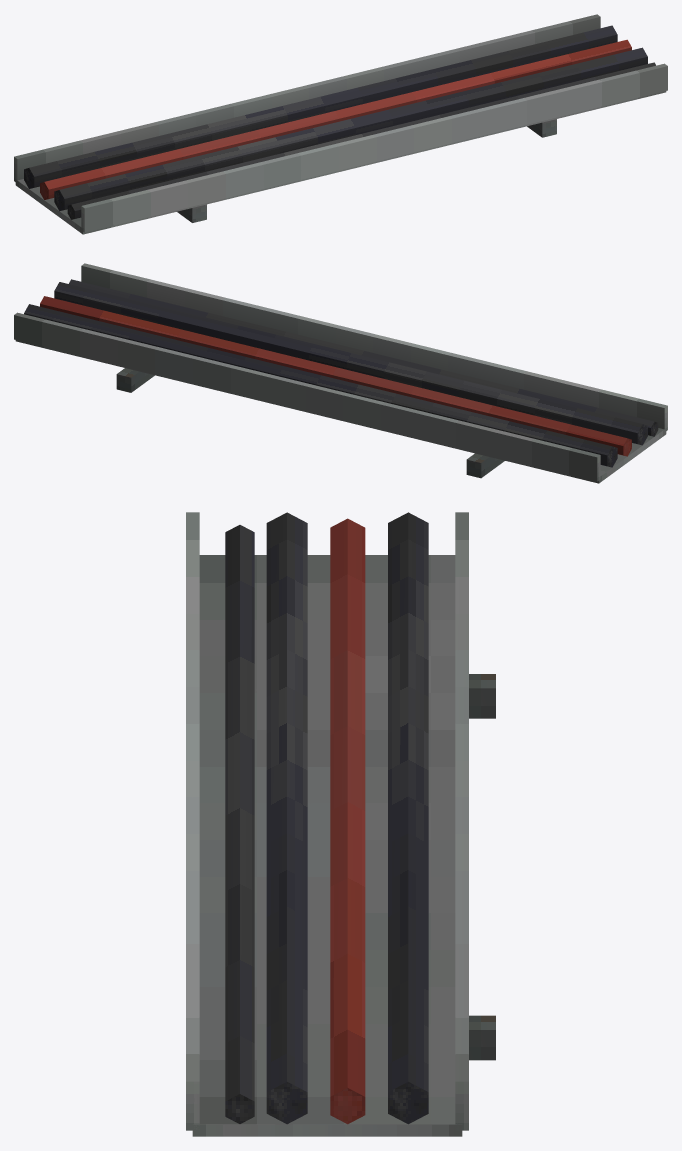
The model's file is cable_tray.glb.
3 views of the same model, one above another, from view 1: azimuth 30°, elevation 25°; view 2: azimuth 150°, elevation 25°; view 3: azimuth 270°, elevation 25° (orthographic). The views are drawn at different scales.
Parts seen in each view (by area): view 1: cable_tray; view 2: cable_tray; view 3: cable_tray.
Part boxes in pixels (x1=…): cable_tray: x1=14, y1=14, x2=667, y2=234; cable_tray: x1=14, y1=263, x2=667, y2=483; cable_tray: x1=186, y1=512, x2=495, y2=1136.
Bounding box in the file's own units: 2 × 0.14 × 0.46.
1 material, 1 textured.
